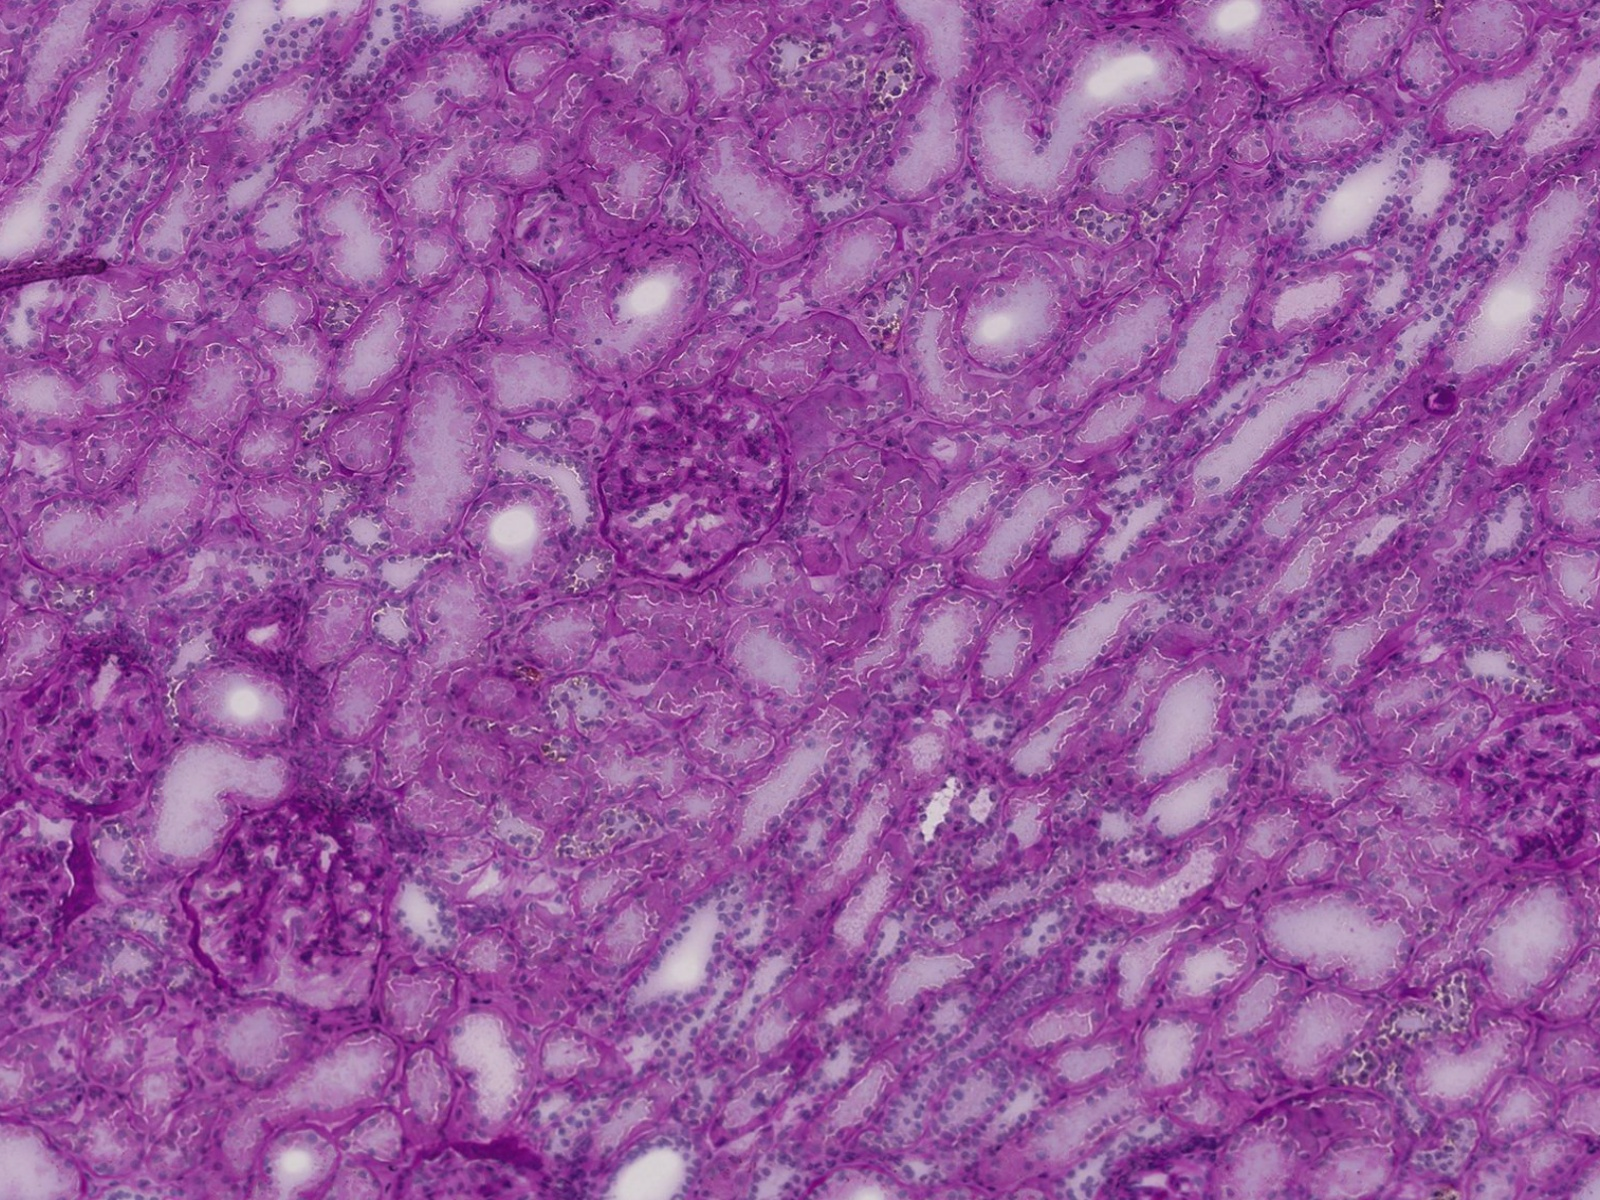Glomeruli: (180, 795, 398, 1020), (592, 382, 789, 587), (8, 629, 191, 808), (1451, 695, 1597, 879), (8, 792, 74, 995), (386, 1146, 557, 1199)
